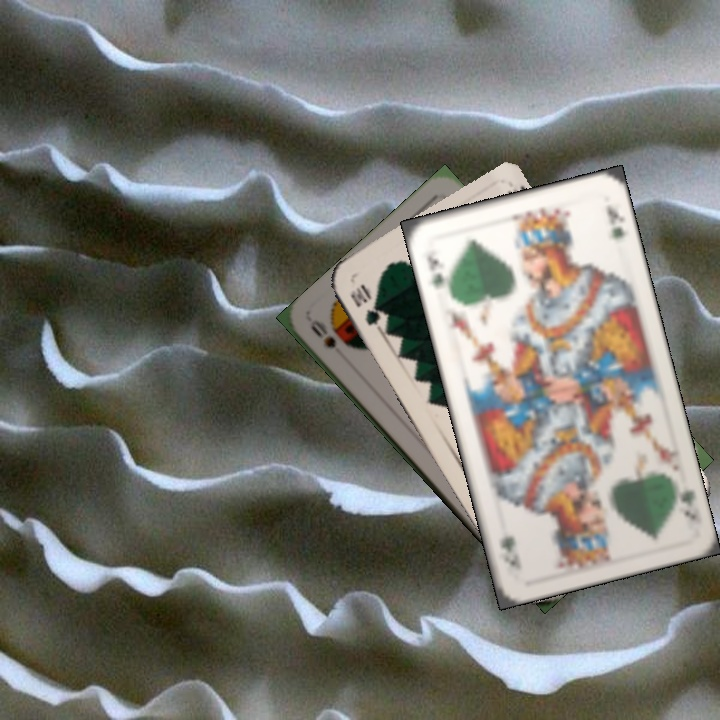G10: (346, 280, 383, 329)
GK: (423, 245, 450, 293), (676, 485, 699, 522)
SO: (306, 315, 339, 351)
